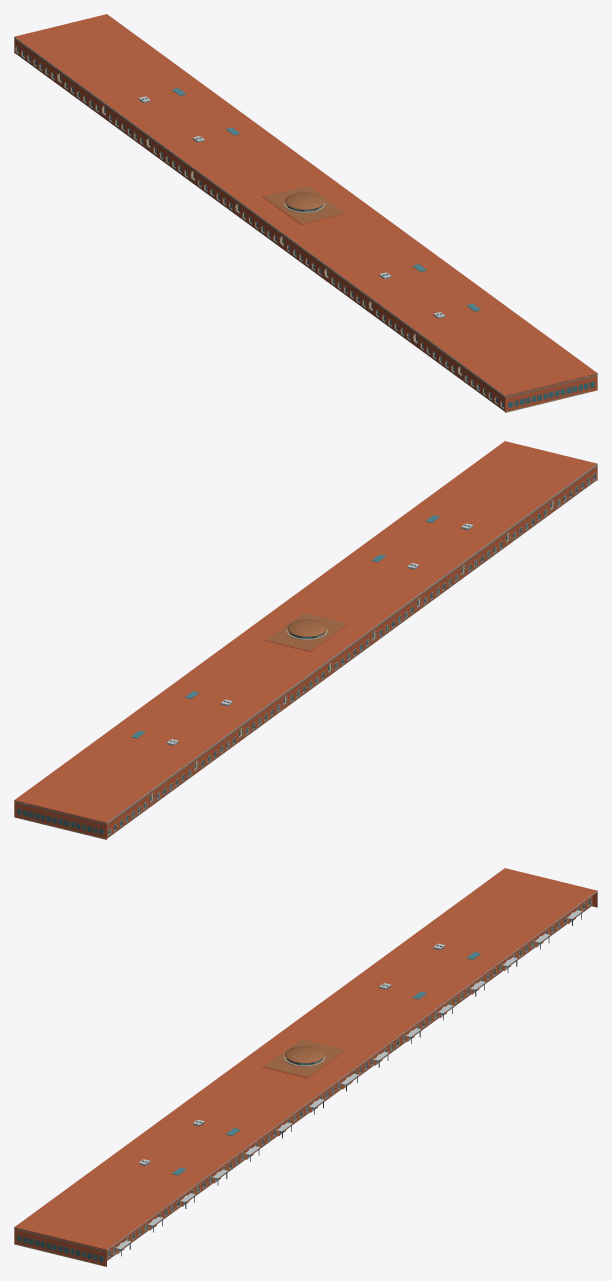
Rendered from RAK_terminal_main.glb.
The picture shows the model from 3 angles, top to bottom: view 1: azimuth 30°, elevation 25°; view 2: azimuth 150°, elevation 25°; view 3: azimuth 330°, elevation 25°; orthographic projection.
Visible parts, largest first — view 1: RAK_terminal_main; view 2: RAK_terminal_main; view 3: RAK_terminal_main.
Part boxes in pixels (left/top/right/bottom): RAK_terminal_main: left=14, top=14, right=597, bottom=412; RAK_terminal_main: left=14, top=441, right=597, bottom=839; RAK_terminal_main: left=14, top=868, right=597, bottom=1266.
Bounding box in the file's own units: 70 × 18 × 640.
16 materials, 16 textured.
